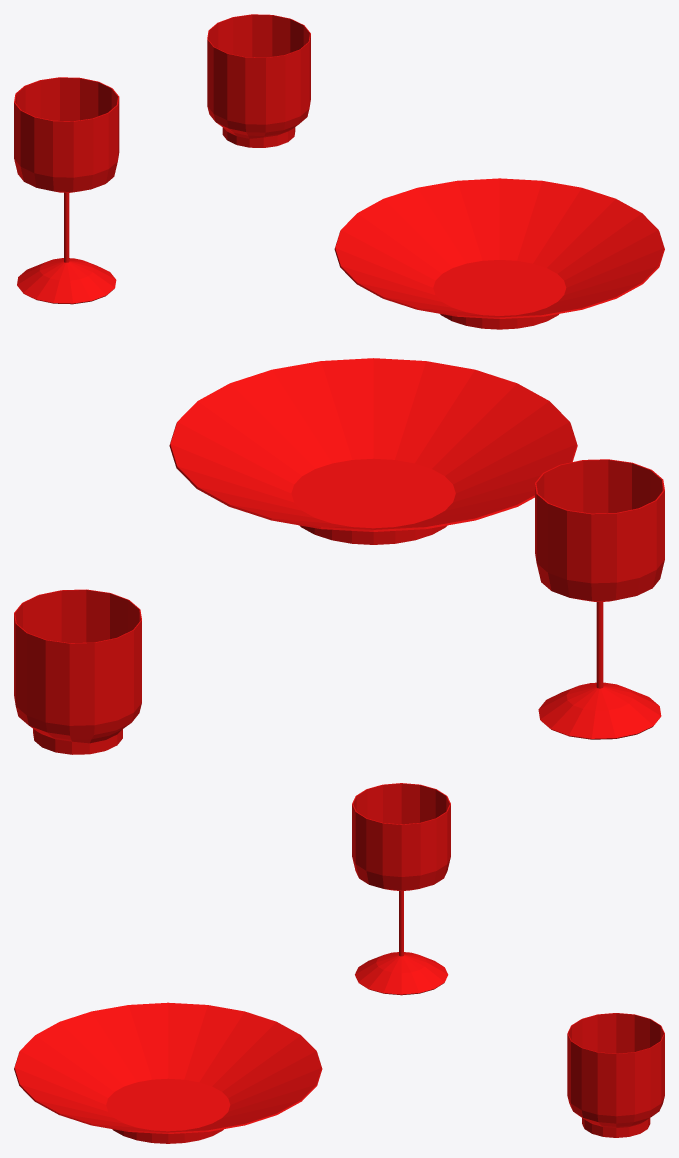
3 renders of one model, top to bottom at view 1: azimuth 30°, elevation 25°; view 2: azimuth 150°, elevation 25°; view 3: azimuth 270°, elevation 25°, orthographic. The views are drawn at different scales.
Visible parts, largest first — view 1: Circle, Circle.003, Circle.004; view 2: Circle, Circle.003, Circle.004; view 3: Circle, Circle.003, Circle.004.
Part boxes in pixels (x1,y1,x2,y2): Circle: [334, 178, 664, 329]; Circle.003: [14, 77, 119, 304]; Circle.004: [207, 14, 310, 147]; Circle: [169, 358, 577, 544]; Circle.003: [535, 459, 664, 739]; Circle.004: [14, 589, 141, 754]; Circle: [14, 1002, 322, 1143]; Circle.003: [352, 783, 450, 995]; Circle.004: [567, 1013, 664, 1137].
Size of the model in its own units: 117 by 43.18 by 142.
